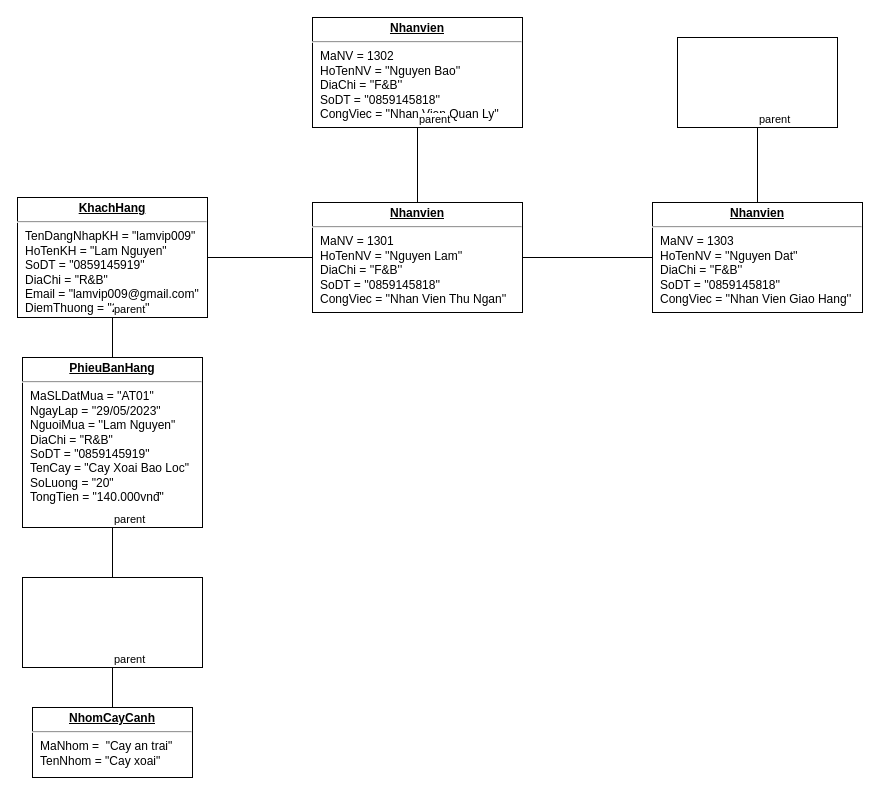
This 880x795 diagram has some shape labels left out. Here are the shapes that lost their labels. From the top down, the centre of each, then its label:
the point at 757,82: BaoCao MaBC = "0001" NgayBC = "01/01/2023" ChiTietBC = "Nhap hang"
the point at 112,622: DanhMucCayCanh MaCay = XBL001 TenCay = ''Cay Xoai Bao Loc'' GiaTien = "7000vnđ''
